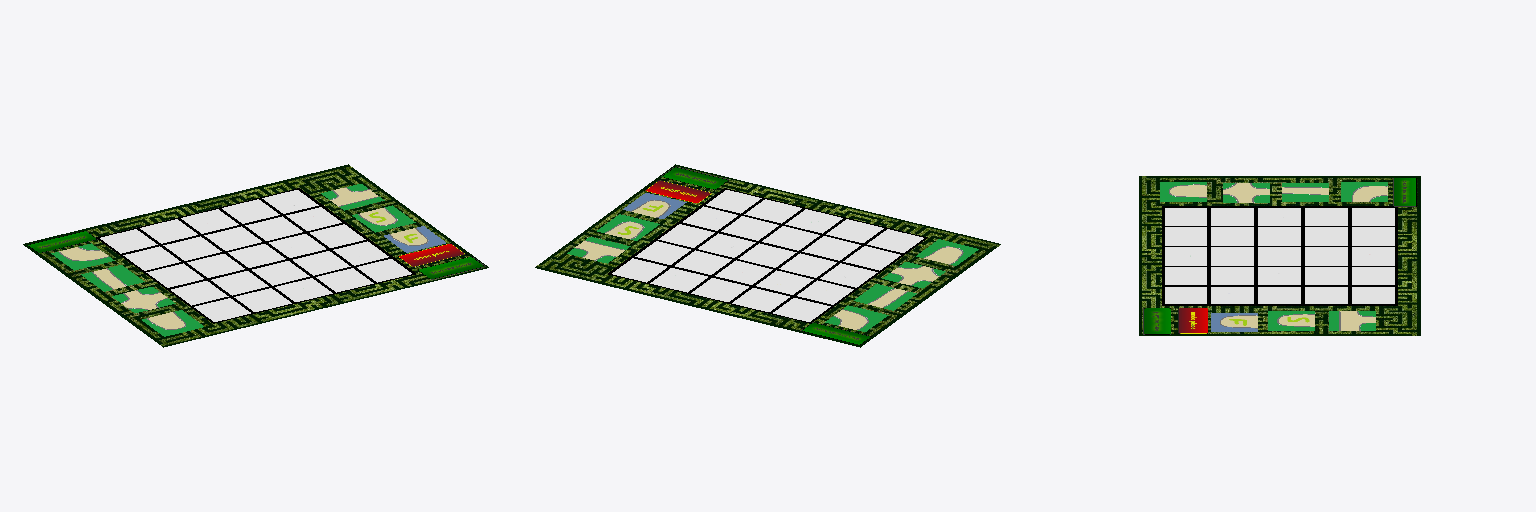
The picture shows the model from 3 angles: view 1: azimuth 30°, elevation 25°; view 2: azimuth 150°, elevation 25°; view 3: azimuth 270°, elevation 25°; orthographic projection.
Visible parts, largest first — view 1: Plane; view 2: Plane; view 3: Plane.
Boxes of the visible parts, x1=… form: Plane: x1=23, y1=164, x2=488, y2=347; Plane: x1=535, y1=164, x2=1000, y2=347; Plane: x1=1139, y1=176, x2=1420, y2=335.
Size of the model in its own units: 8 by 0 by 6.
Materials: 1 (1 with a texture image).